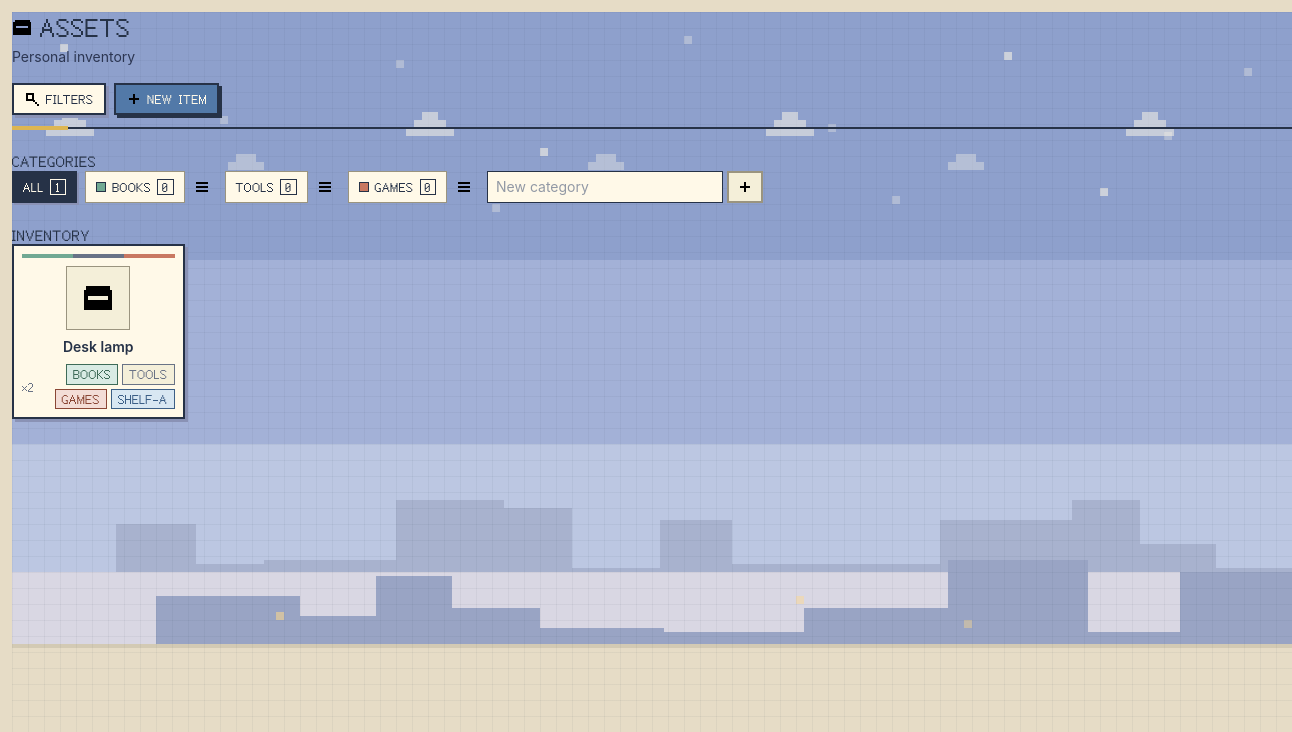
it: AssetsPage › filters on chip click and reveals manage actions behind the menu button
Step 1. Click the button with aria-label "Filter by category Books" → (135, 186), box left=86, top=170, right=185, bottom=202
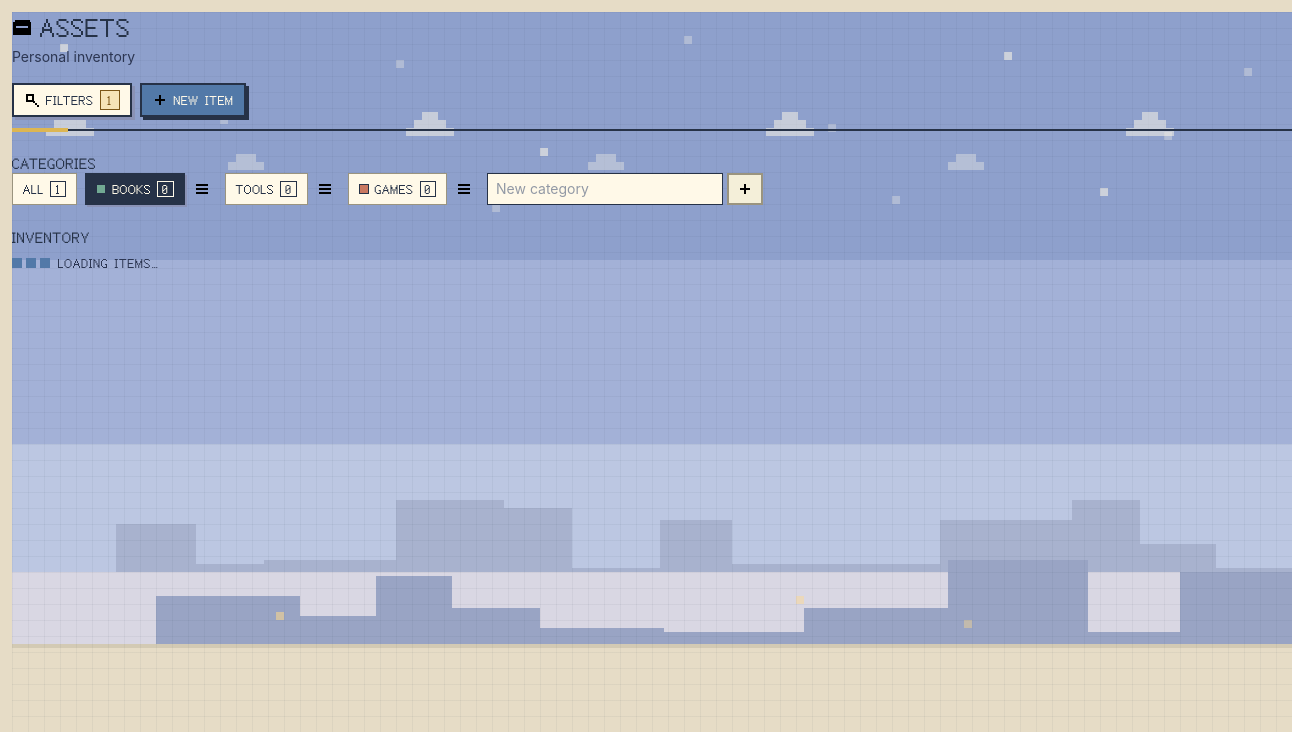
Now the button with aria-label "Filter by category Books" is pressed, box left=86, top=173, right=185, bottom=205
Step 2. Click the button named "Manage category Books" → (202, 189), box left=187, top=173, right=217, bottom=205
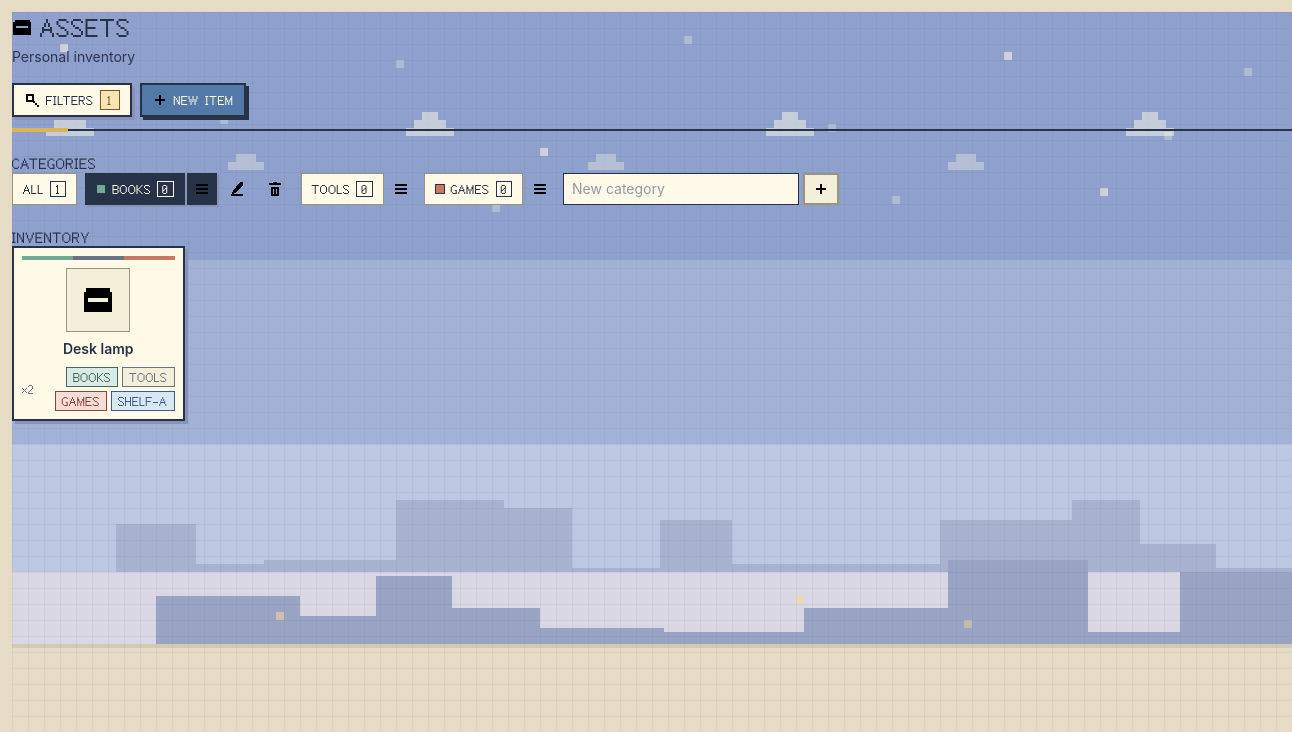
Now the button named "Manage category Books" is expanded, box left=187, top=173, right=217, bottom=205
Now the button named "Rename category Books" is shown, box left=219, top=173, right=255, bottom=205
Now the button named "Delete category Books" is shown, box left=257, top=173, right=293, bottom=205
